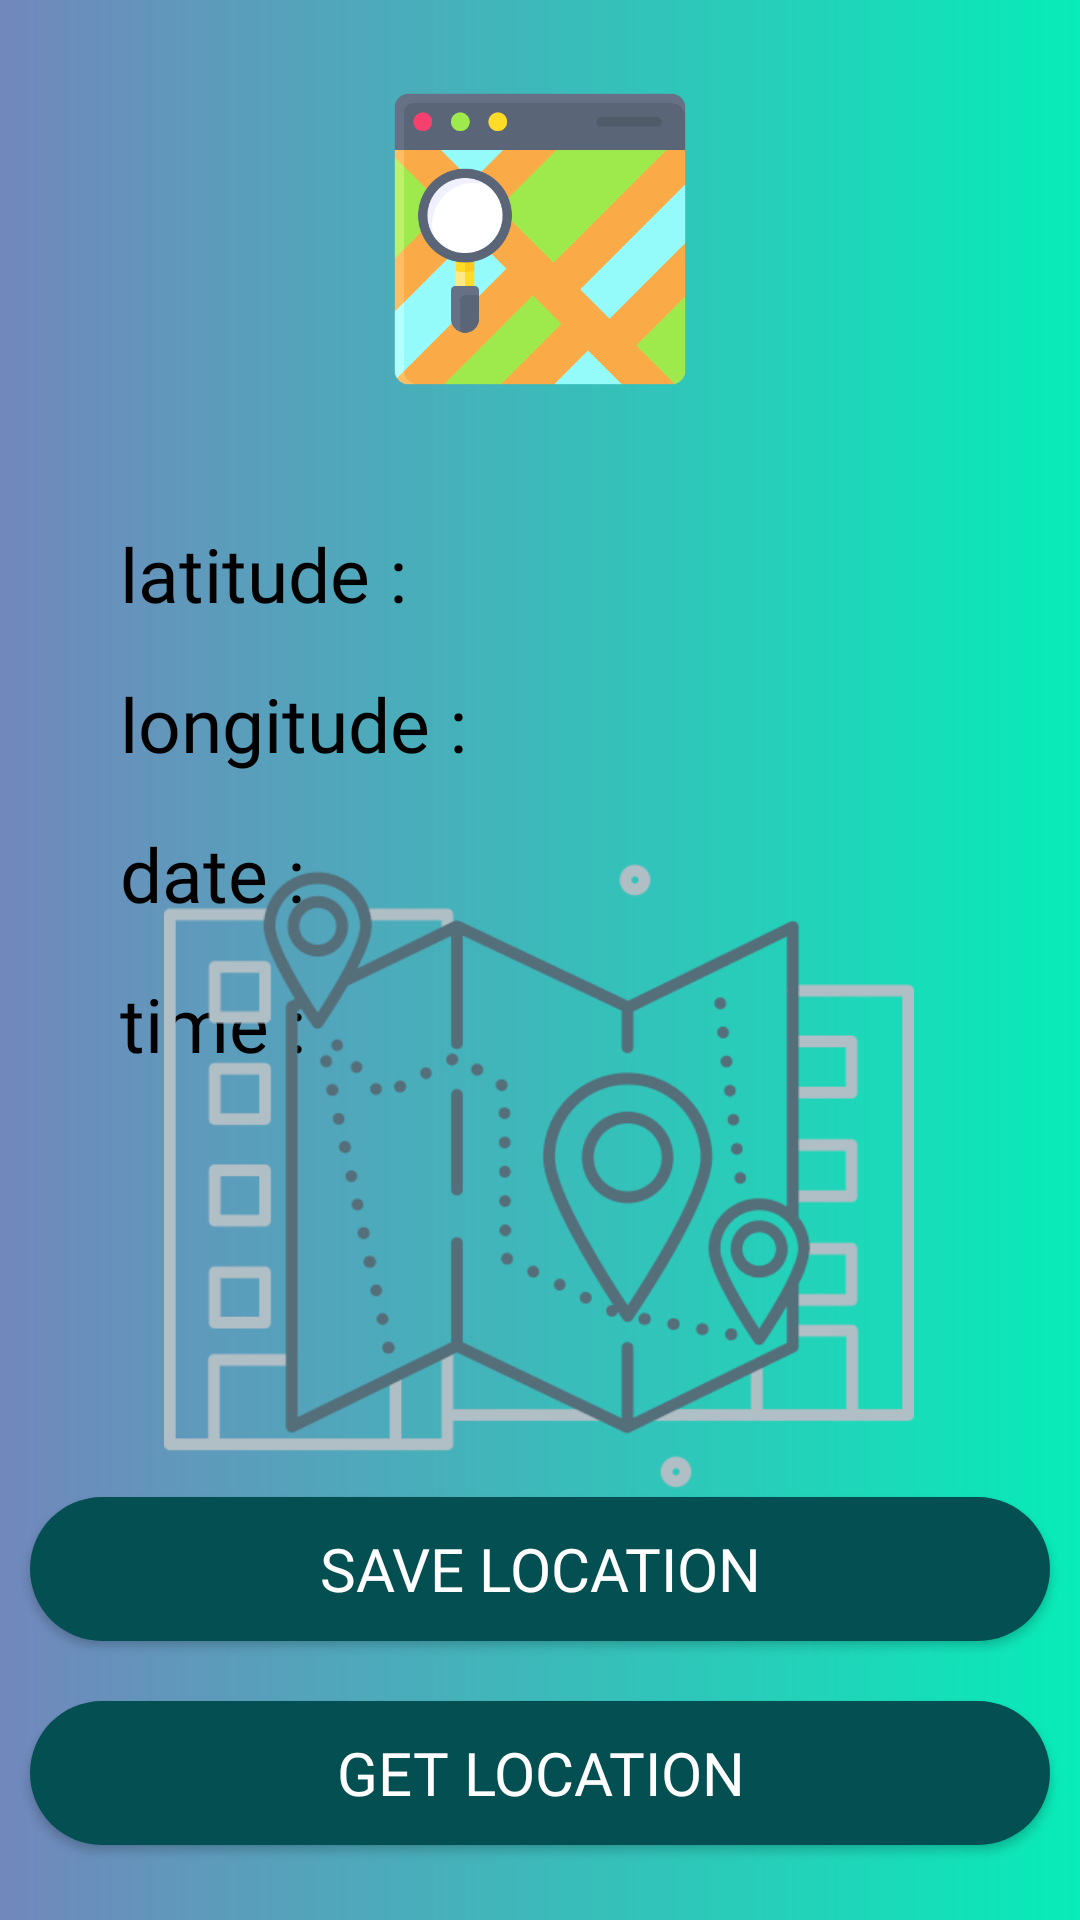

Screen size 1080px×1920px. Icon name, then its center in pixels as [x,y]:
browser: [542,239]
